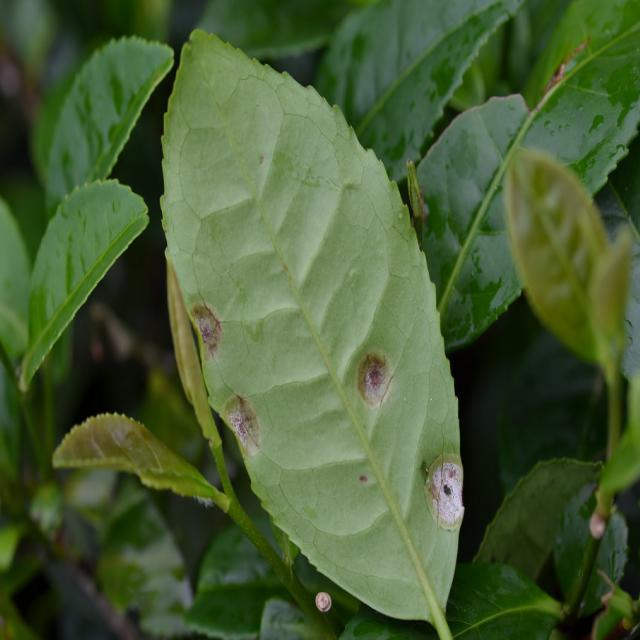Tea cake: (427, 449, 470, 529), (218, 386, 265, 456), (357, 346, 402, 409), (183, 295, 226, 359)
